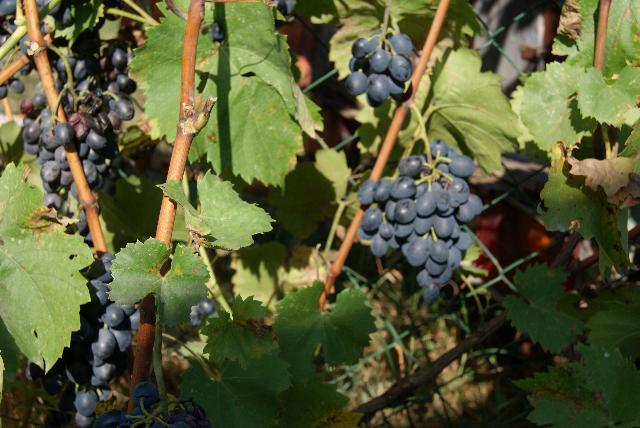grapes: (359, 140, 482, 304), (38, 90, 121, 198), (345, 31, 412, 108)
